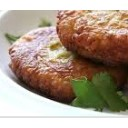cutlet: (10, 26, 128, 102), (56, 11, 128, 63)
